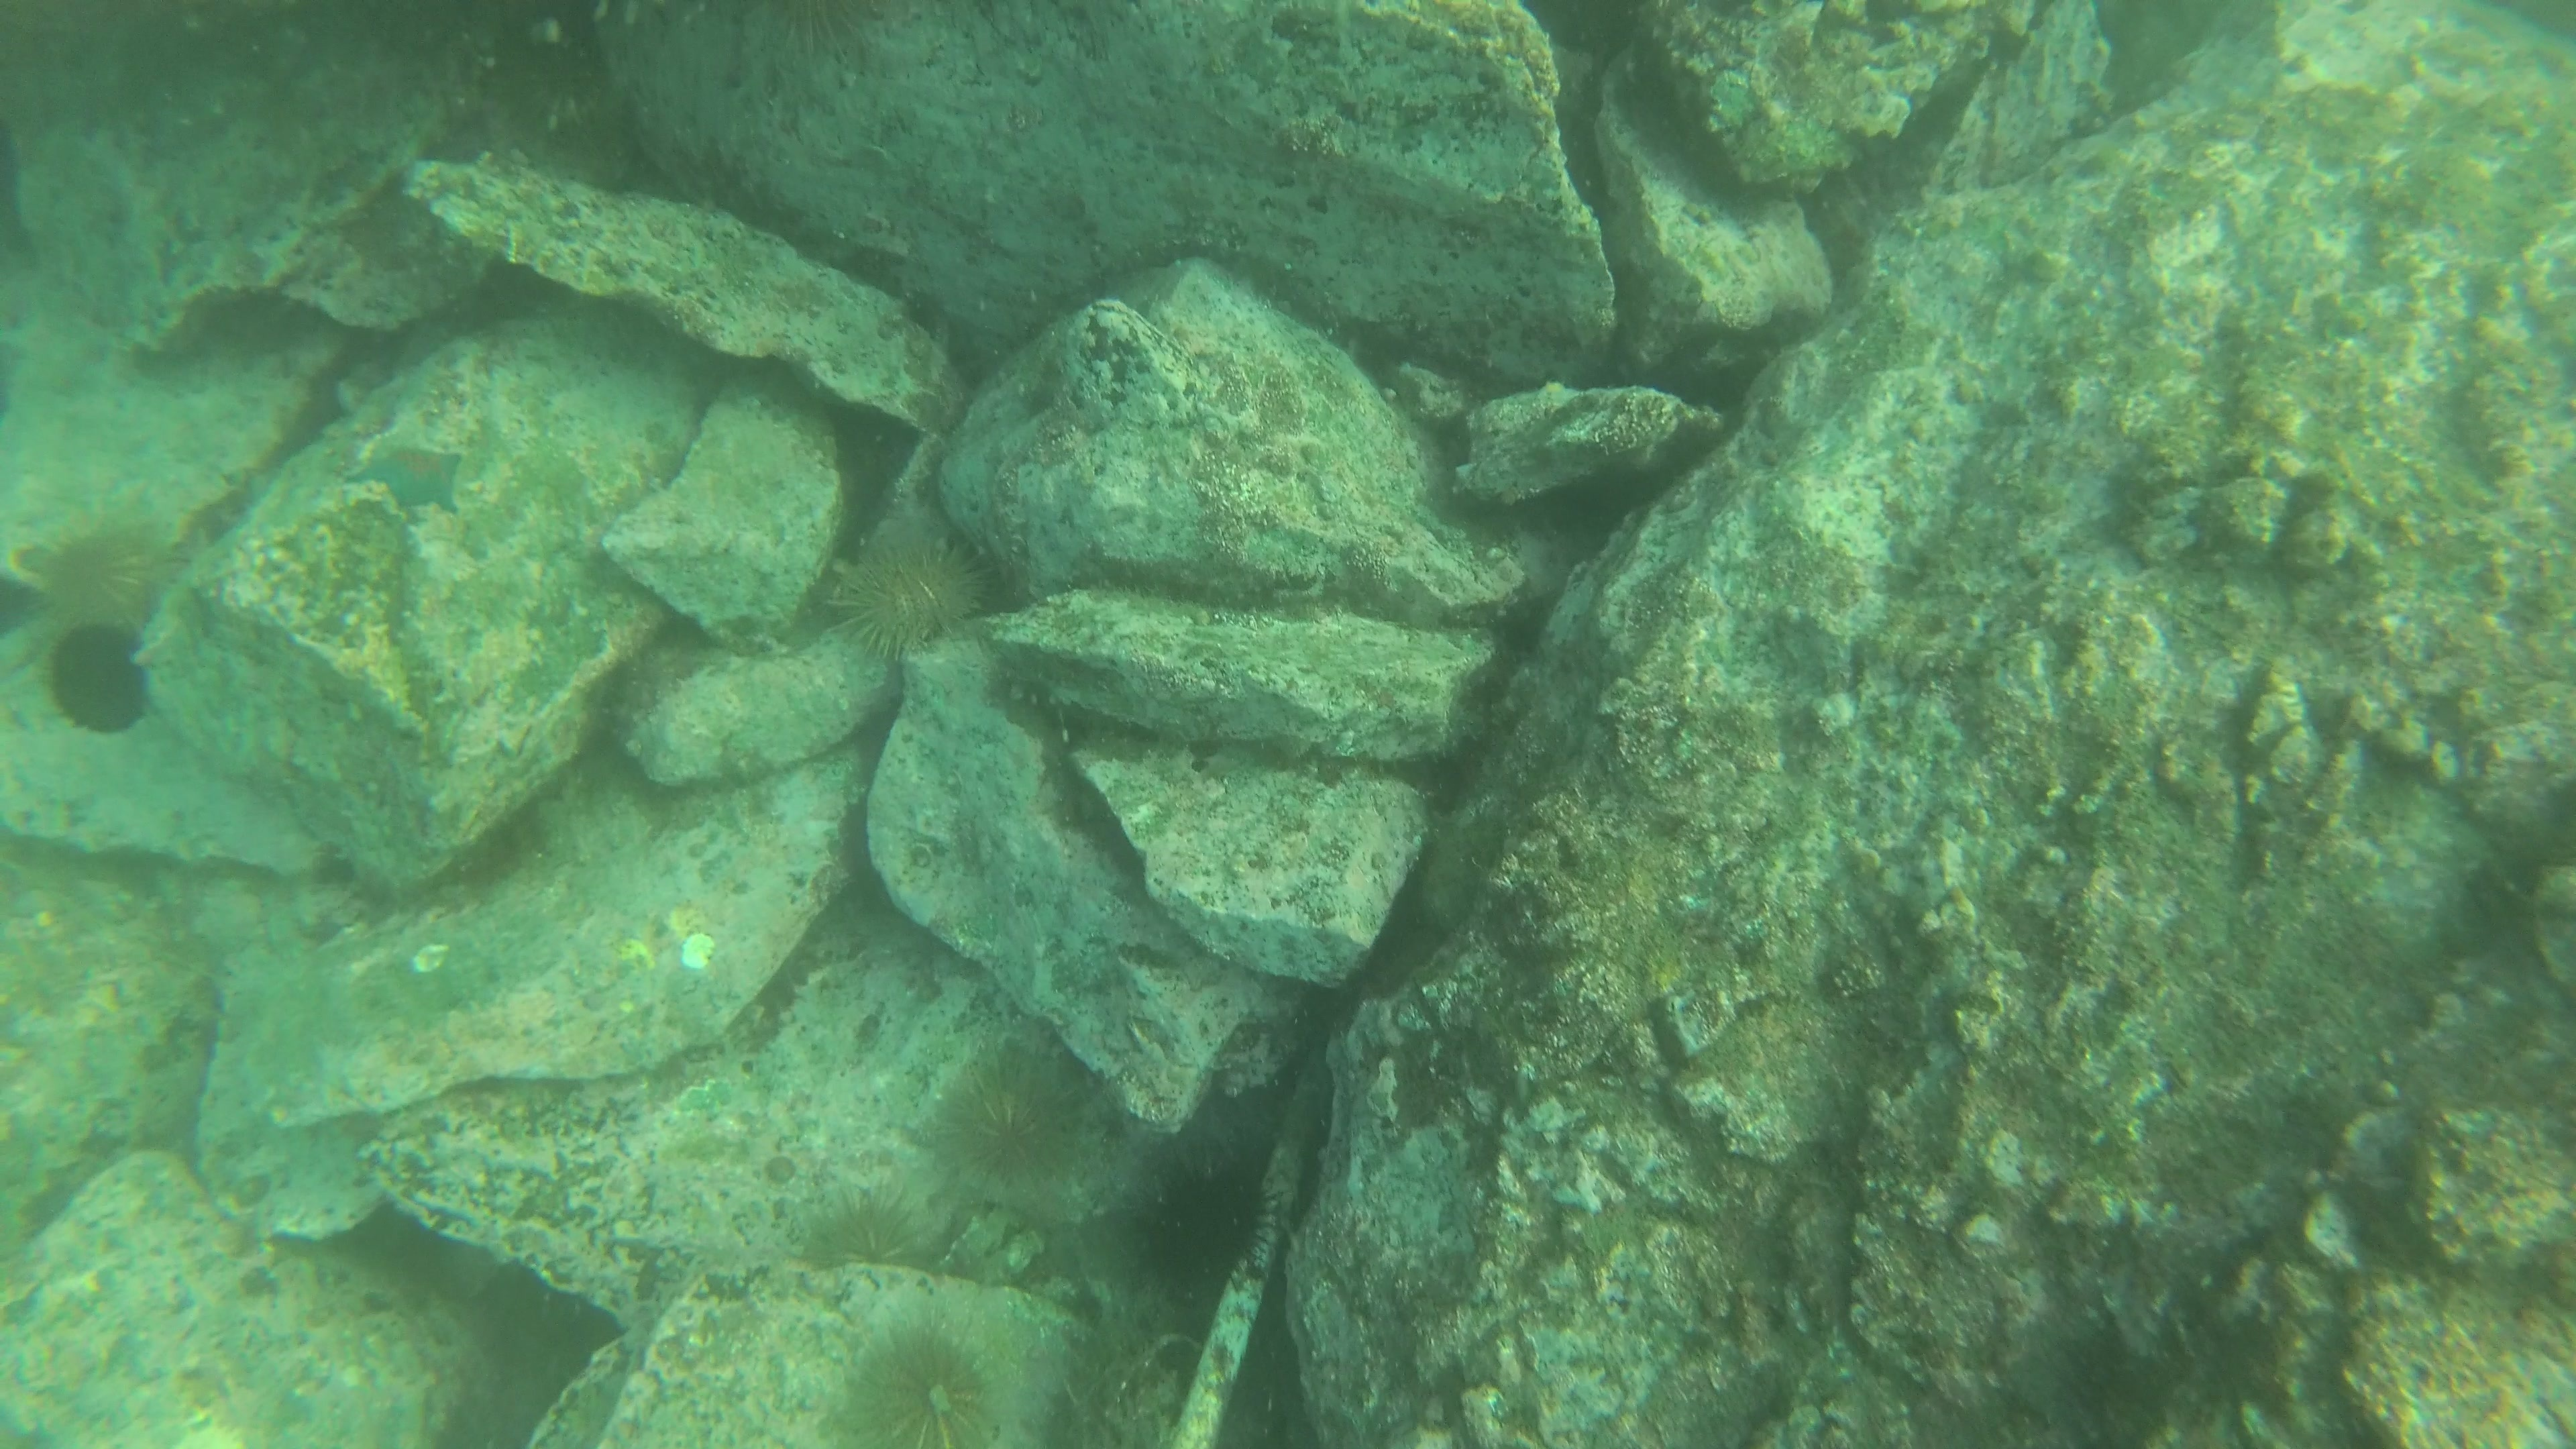echinus: (924, 1047, 1097, 1201), (821, 525, 998, 665), (830, 1323, 1014, 1449), (1127, 1150, 1276, 1299), (32, 517, 177, 639), (789, 1184, 947, 1286), (39, 619, 157, 740), (736, 2, 899, 76)
starfish: (345, 433, 476, 518)
